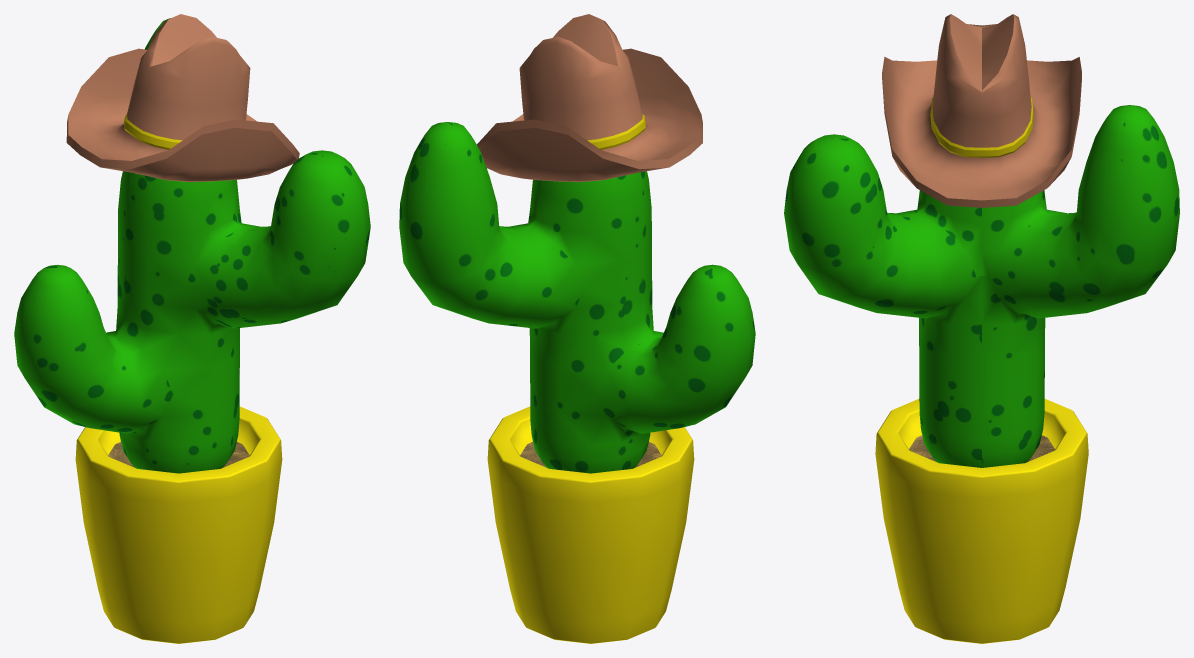
Rendered from cactus_funky.fbx.
The picture shows the model from 3 angles, left to right: view 1: azimuth 30°, elevation 25°; view 2: azimuth 150°, elevation 25°; view 3: azimuth 270°, elevation 25°; orthographic projection. The views are drawn at different scales.
Visible parts, largest first — view 1: polySurface46; view 2: polySurface46; view 3: polySurface46.
Part boxes in pixels (x1=…): polySurface46: x1=14, y1=14, x2=370, y2=643; polySurface46: x1=399, y1=14, x2=755, y2=643; polySurface46: x1=784, y1=14, x2=1179, y2=643.
Bounding box in the file's own units: 54.03 × 110 × 65.7.
